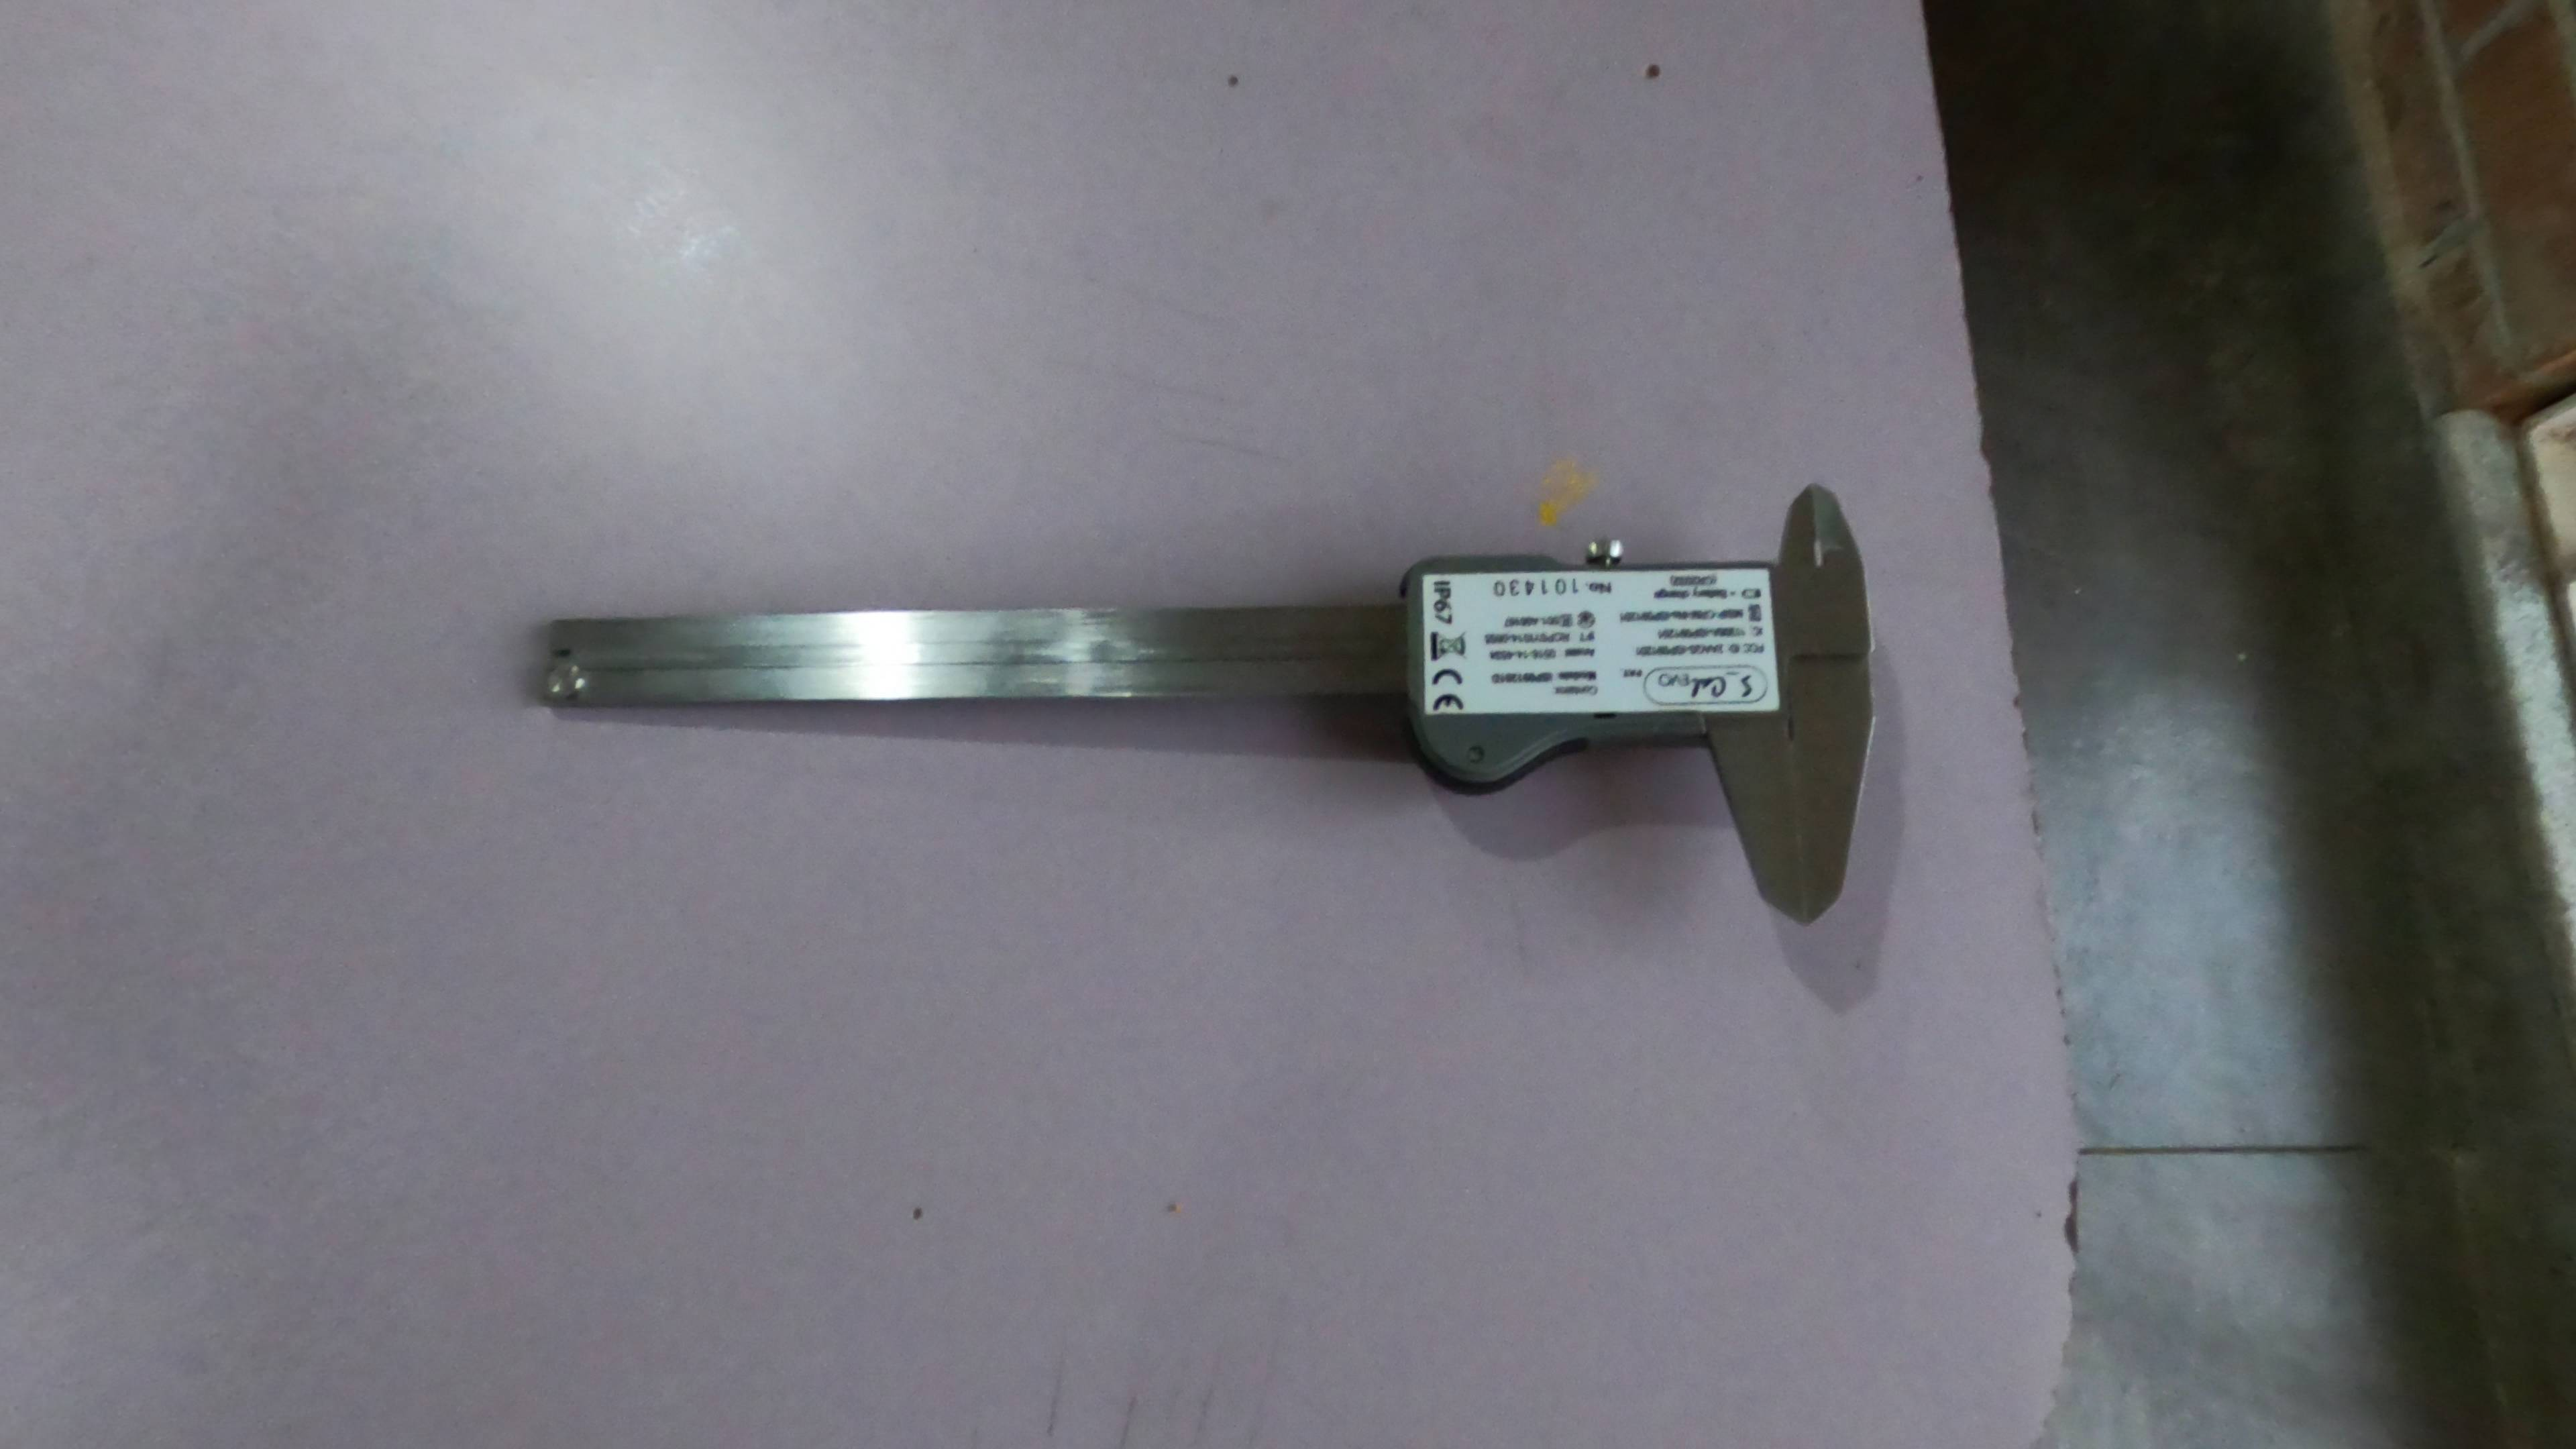vernier_caliper: (527, 471, 1882, 924)
